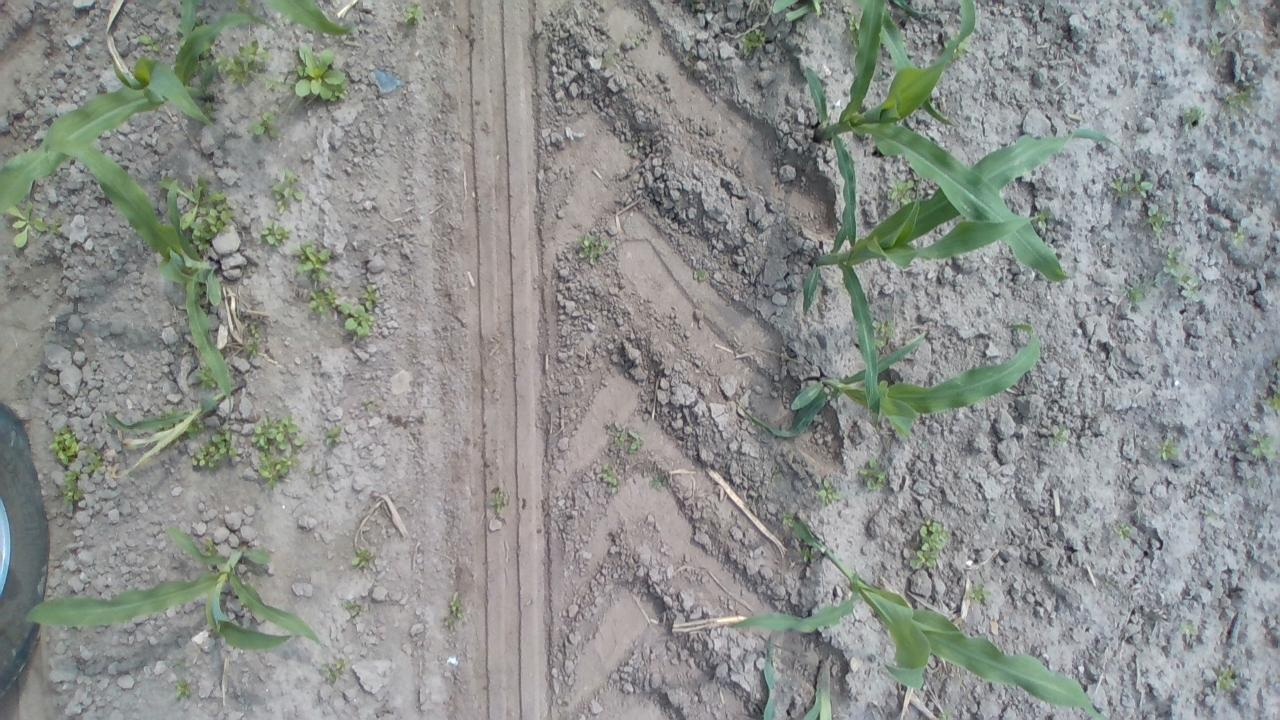Maize: (802, 128, 1124, 416), (729, 514, 1107, 720), (806, 0, 1070, 284), (1, 10, 298, 213), (41, 137, 232, 423), (25, 520, 322, 652), (735, 322, 1042, 440), (106, 374, 248, 481), (852, 0, 954, 126), (266, 0, 352, 37), (800, 654, 834, 720), (760, 629, 780, 720), (772, 0, 824, 23), (180, 0, 198, 44), (890, 0, 929, 15)
Weeds: (250, 411, 308, 492), (304, 279, 378, 335), (289, 42, 352, 100), (192, 189, 236, 254), (215, 38, 272, 87), (161, 173, 207, 232), (905, 513, 950, 572), (61, 441, 102, 505), (1162, 244, 1204, 306), (190, 426, 238, 469), (289, 238, 334, 281), (8, 201, 48, 248), (270, 166, 304, 218), (605, 420, 646, 456), (49, 420, 80, 466), (1108, 172, 1153, 202), (578, 232, 612, 268), (1140, 203, 1172, 237), (858, 455, 886, 490), (442, 590, 464, 632), (258, 219, 292, 246), (1180, 104, 1210, 134), (1122, 274, 1152, 304), (1250, 429, 1277, 461), (599, 461, 624, 495), (264, 69, 294, 97), (1210, 664, 1238, 694), (246, 112, 278, 138), (1225, 82, 1256, 108), (320, 656, 348, 683), (742, 26, 766, 57), (818, 476, 842, 506), (888, 177, 914, 204), (871, 319, 894, 349), (1157, 436, 1180, 462), (1110, 520, 1133, 545), (1047, 421, 1068, 448), (244, 323, 260, 358), (351, 545, 376, 567), (1258, 386, 1280, 411), (966, 583, 992, 603), (139, 31, 163, 52), (195, 364, 215, 389), (848, 12, 861, 50), (342, 596, 362, 620), (174, 676, 192, 702), (646, 470, 668, 491), (404, 1, 424, 24), (488, 486, 505, 512), (1158, 4, 1178, 26), (1214, 0, 1241, 16), (1230, 223, 1247, 248), (323, 424, 342, 445), (1178, 618, 1200, 636), (1034, 210, 1053, 230), (1204, 35, 1221, 55), (629, 27, 645, 45), (1201, 506, 1217, 524), (51, 216, 64, 238), (361, 398, 378, 414), (599, 56, 616, 71), (171, 655, 189, 669), (204, 535, 218, 553), (800, 547, 811, 564), (782, 510, 793, 526), (693, 268, 707, 280), (938, 708, 952, 720), (688, 0, 701, 12), (770, 468, 784, 479), (205, 101, 215, 116), (234, 0, 248, 9), (1272, 355, 1280, 369)
